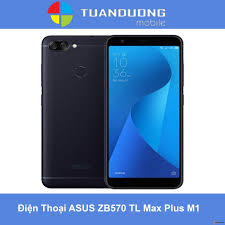mi: (100, 33, 186, 191)
